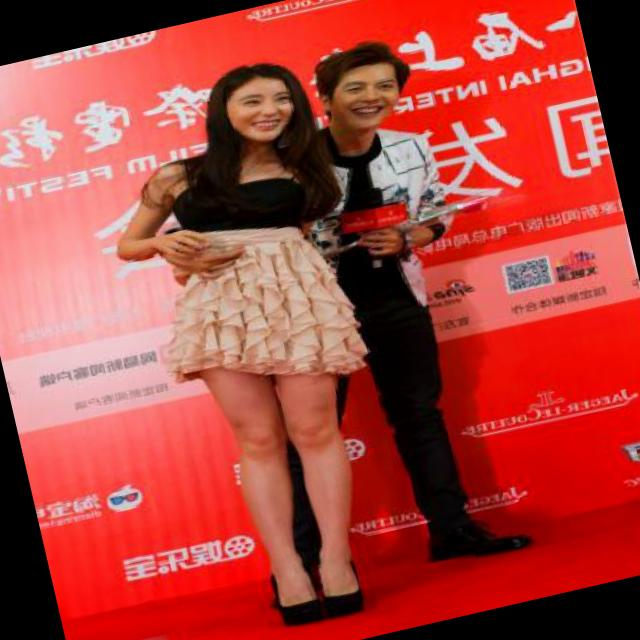Person: (87, 42, 424, 636), (280, 25, 554, 598)
